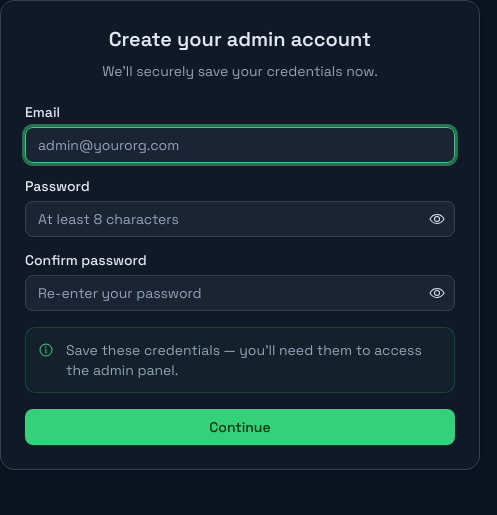
Test: CreateAccountStep › shows validation error when passwords don't match
Type "admin@test.com" into the field labelled "Email" at point(240, 145), box top-left (25, 127), bottom-right (455, 163)
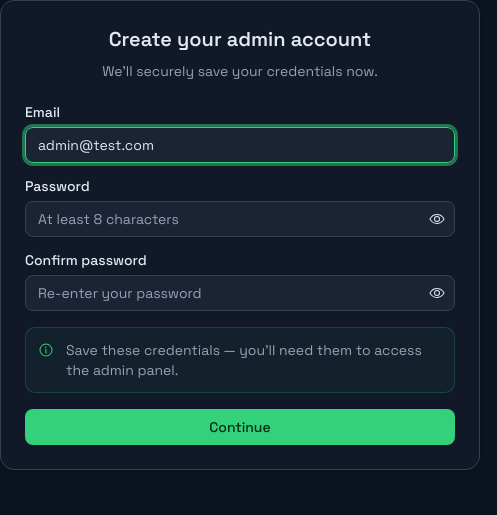
Type "password123" into the password field labelled "Password" at point(240, 219), box top-left (25, 201), bottom-right (455, 237)
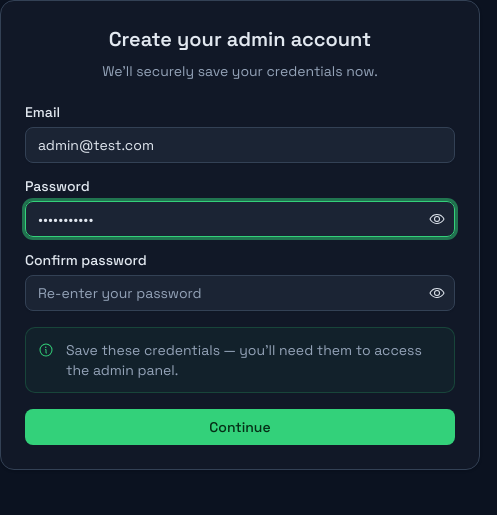
Type "different123" into the password field labelled "Confirm password" at point(240, 293), box top-left (25, 275), bottom-right (455, 311)
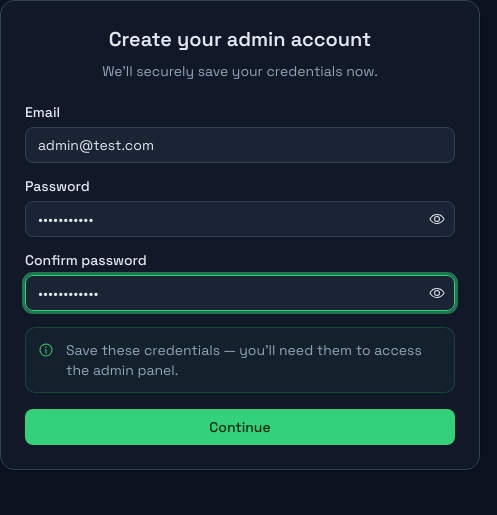
Click the button "Continue" at point(240, 427), box top-left (25, 409), bottom-right (455, 445)
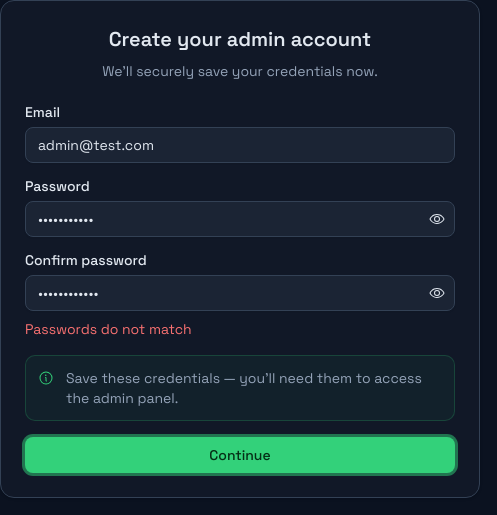
expect the text "Passwords do not match" is shown: met, box top-left (25, 320), bottom-right (192, 338)
